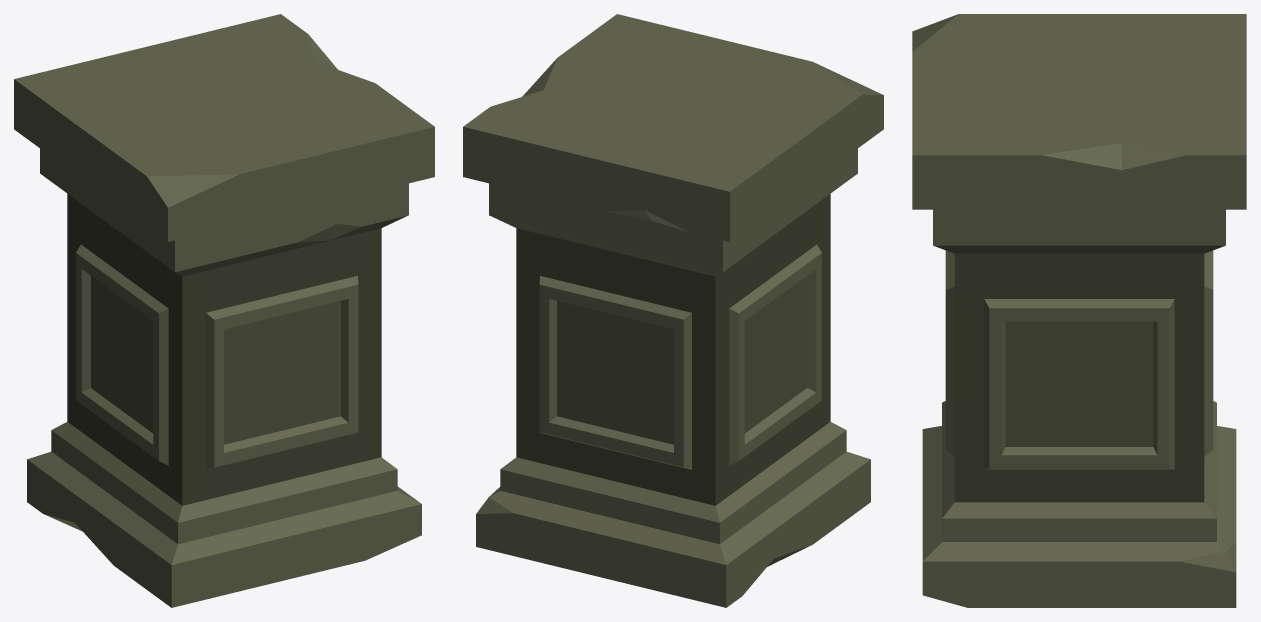
Rendered from SM_Bld_Roof_Edge_Corner_01.fbx.
The picture shows the model from 3 angles, left to right: view 1: azimuth 30°, elevation 25°; view 2: azimuth 150°, elevation 25°; view 3: azimuth 270°, elevation 25°; orthographic projection. The views are drawn at different scales.
Visible parts, largest first — view 1: SM_Bld_Roof_Edge_Corner_01; view 2: SM_Bld_Roof_Edge_Corner_01; view 3: SM_Bld_Roof_Edge_Corner_01.
Part boxes in pixels (x1=…): SM_Bld_Roof_Edge_Corner_01: x1=14, y1=14, x2=434, y2=607; SM_Bld_Roof_Edge_Corner_01: x1=463, y1=14, x2=883, y2=607; SM_Bld_Roof_Edge_Corner_01: x1=912, y1=14, x2=1246, y2=607.
Size of the model in its own units: 77.26 by 117 by 77.26.
Materials: 1 (1 with a texture image).
